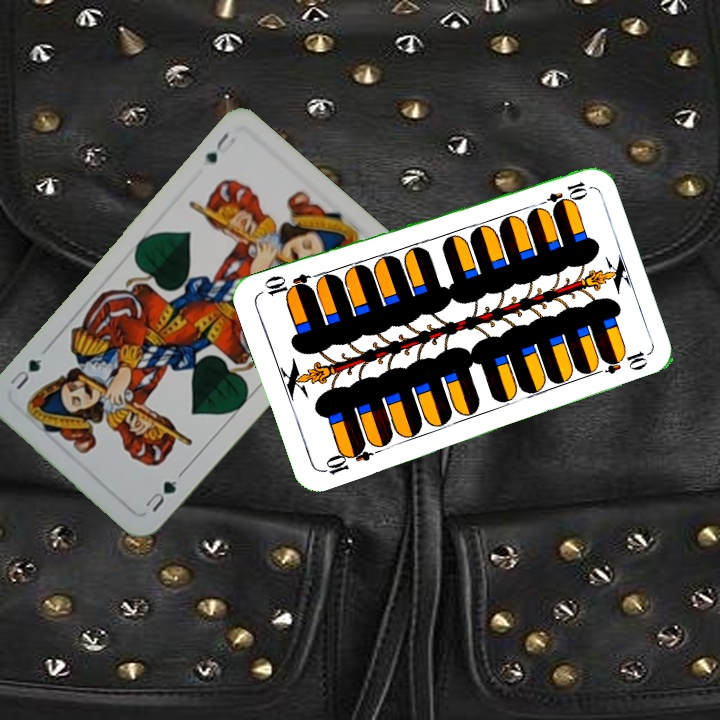E10: (317, 439, 375, 478), (532, 177, 590, 211)
GU: (141, 475, 180, 515), (201, 128, 239, 166)
